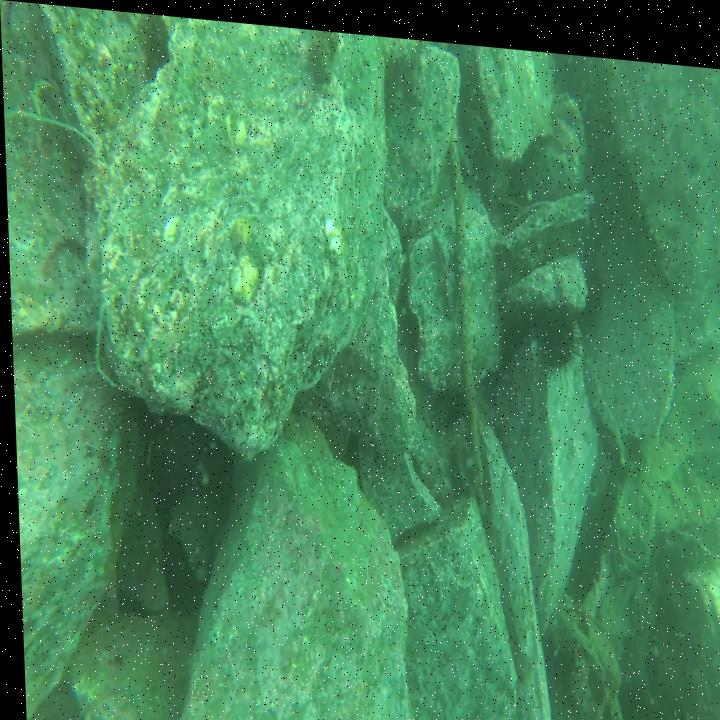echinus: (532, 291, 581, 371), (580, 251, 607, 309)
scallop: (227, 253, 263, 305), (321, 207, 351, 258)
